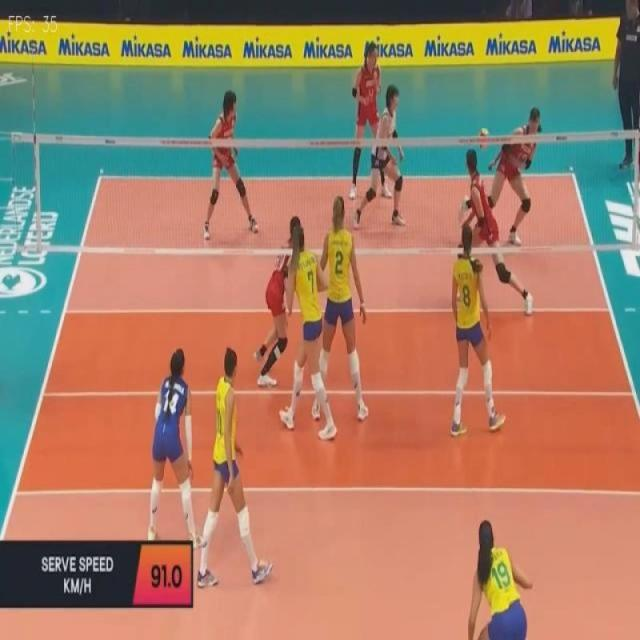volleyball: (478, 127, 490, 150)
